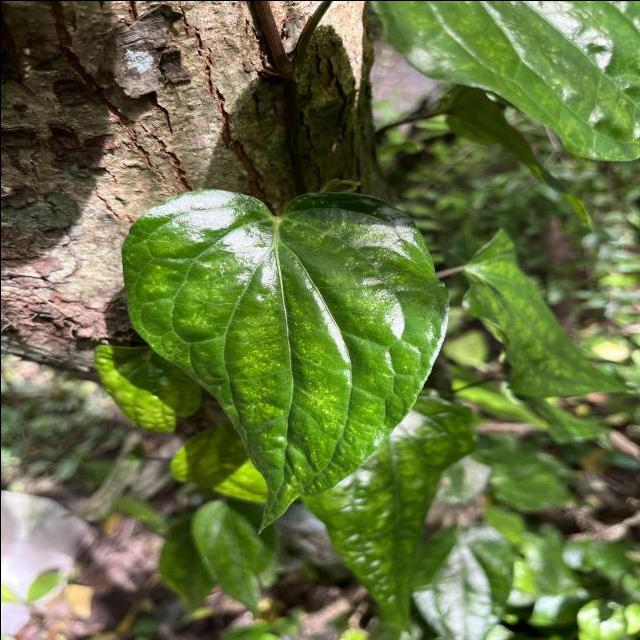Piper betle: (118, 184, 452, 536)
